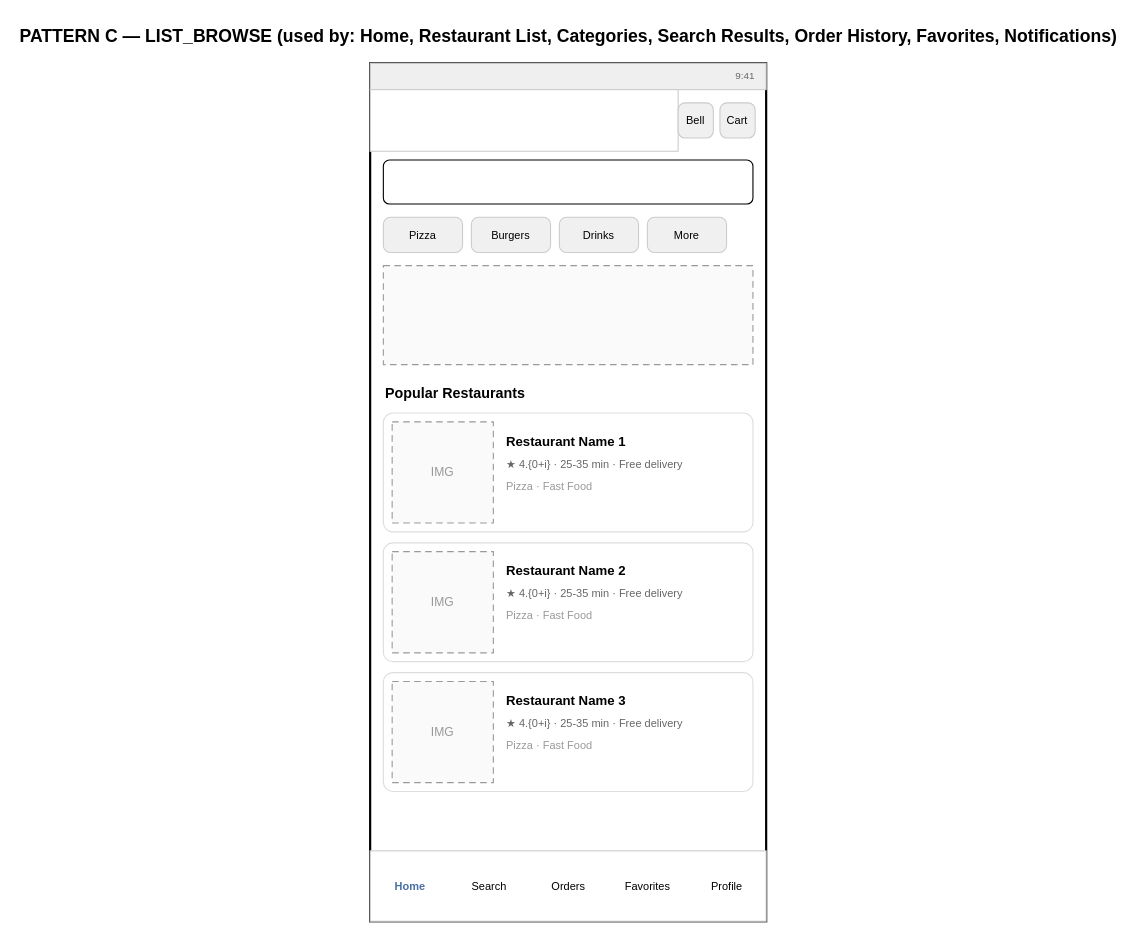
The diagram is 1135 pixels wide and 941 high, and some of its shapes have lost their labels. Here are the shapes that lost their labels. From the top down, the box of each, then its label:
(369, 89, 678, 151): Deliver to: Home ▾
(382, 159, 753, 204): Search restaurants or food
(382, 265, 753, 365): PROMO BANNER (carousel)
